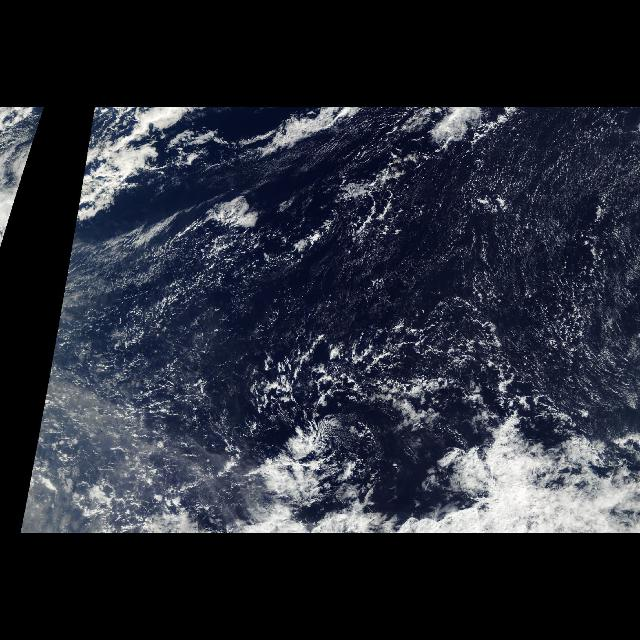Gravel: (244, 312, 572, 443)
Sugar: (312, 108, 640, 308), (70, 244, 240, 438), (576, 314, 636, 410)
